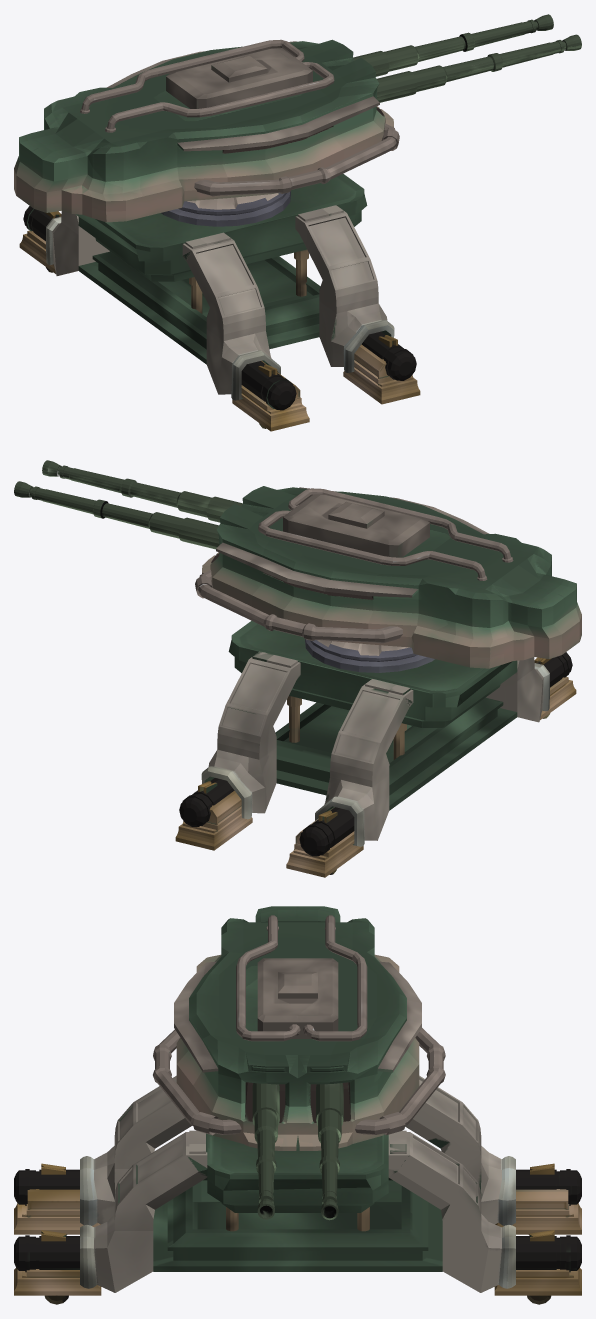
The model's file is TankOnRails.fbx.
3 renders of one model, top to bottom at view 1: azimuth 30°, elevation 25°; view 2: azimuth 150°, elevation 25°; view 3: azimuth 270°, elevation 25°, orthographic. The views are drawn at different scales.
Parts seen in each view (by area): view 1: Cube, Cylinder, Cylinder.007, Cylinder.001, Cylinder.002; view 2: Cube, Cylinder, Cylinder.007, Cylinder.002, Cylinder.001; view 3: Cube, Cylinder, Cylinder.007, Cylinder.002, Cylinder.001.
Boxes of the visible parts, x1,y1,x2,y2 form: Cube: [19, 174, 420, 431]; Cylinder: [14, 39, 393, 222]; Cylinder.007: [80, 39, 399, 196]; Cylinder.001: [376, 34, 581, 102]; Cylinder.002: [353, 14, 553, 76]; Cube: [175, 621, 576, 877]; Cylinder: [202, 486, 581, 668]; Cylinder.007: [195, 488, 513, 643]; Cylinder.002: [14, 481, 219, 549]; Cylinder.001: [42, 460, 242, 522]; Cube: [14, 1075, 581, 1304]; Cylinder: [174, 906, 421, 1150]; Cylinder.007: [153, 915, 445, 1135]; Cylinder.002: [316, 1083, 343, 1220]; Cylinder.001: [252, 1083, 279, 1219].
Size of the model in its own units: 1815 by 854 by 1465.
